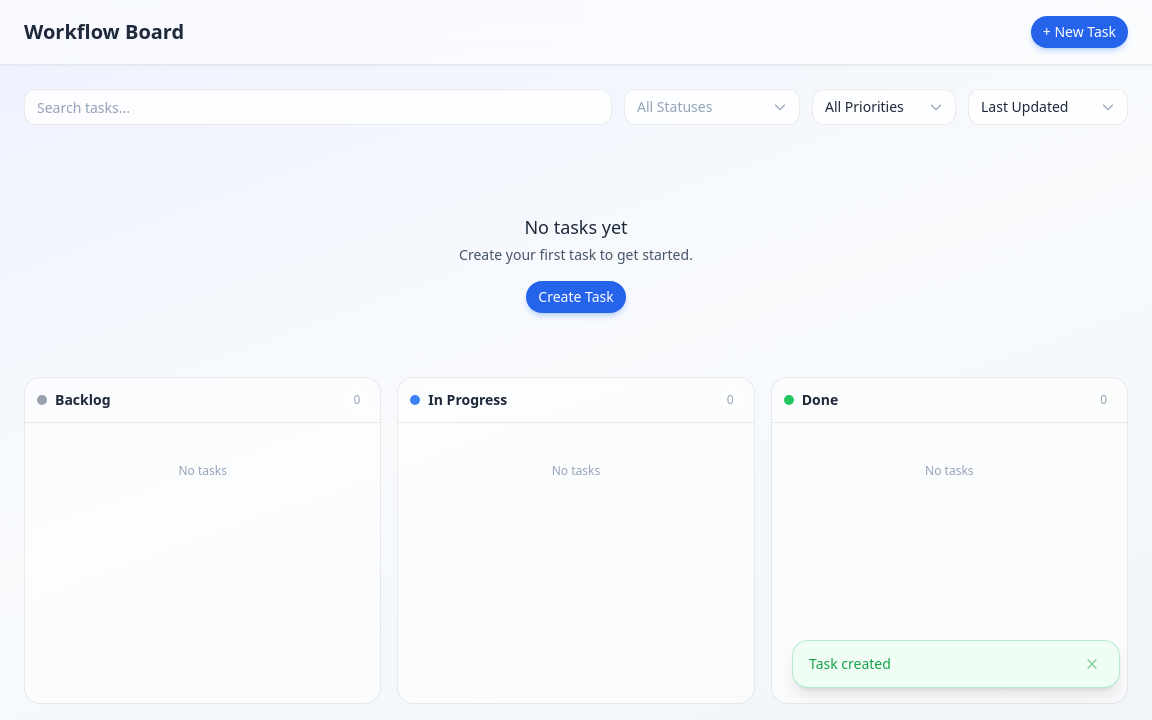
Test case: Board workflow › shows validation error when title is empty
Click the button "+ New Task" at x=1079, y=32, box [1031,16,1128,48]
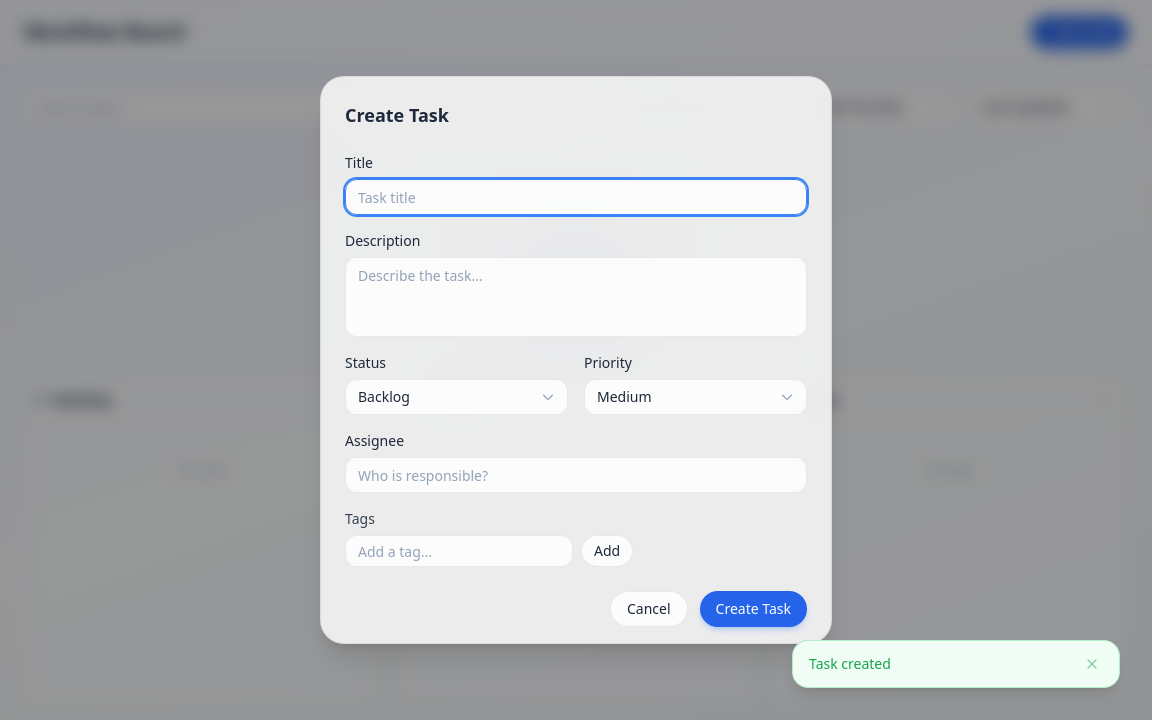
Click the button "Create Task" at x=753, y=609, box [700,591,807,627]
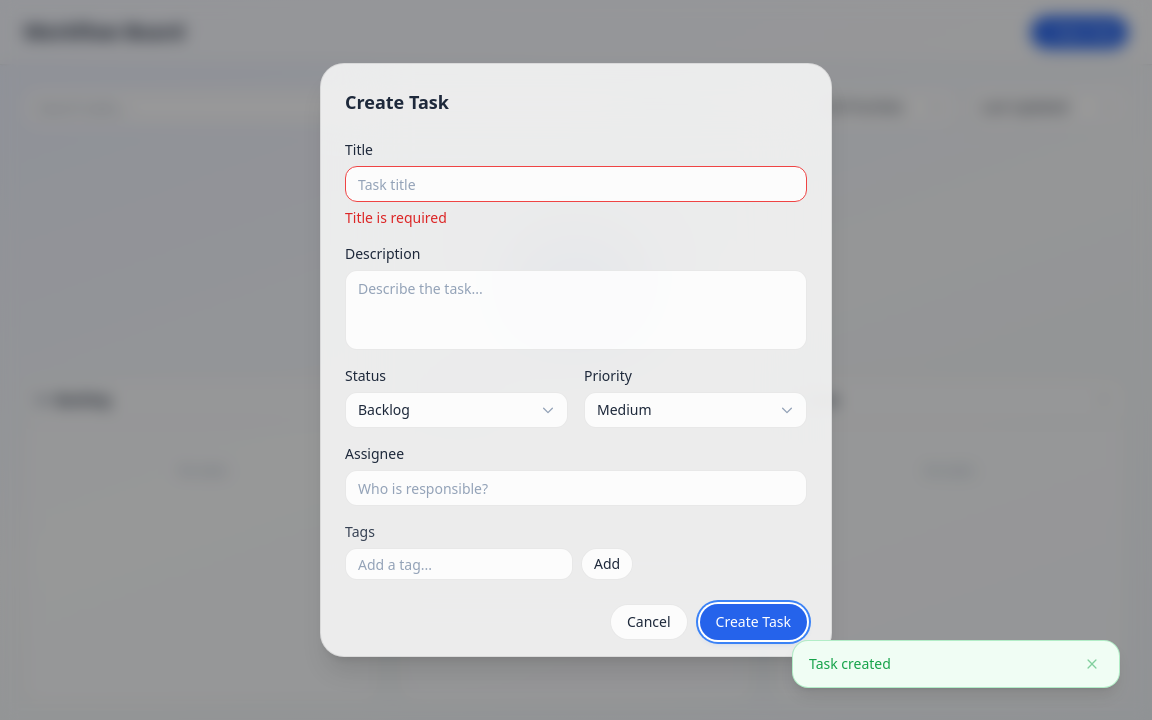
Check: the text "Title is required" is shown, box [345,208,447,227]
